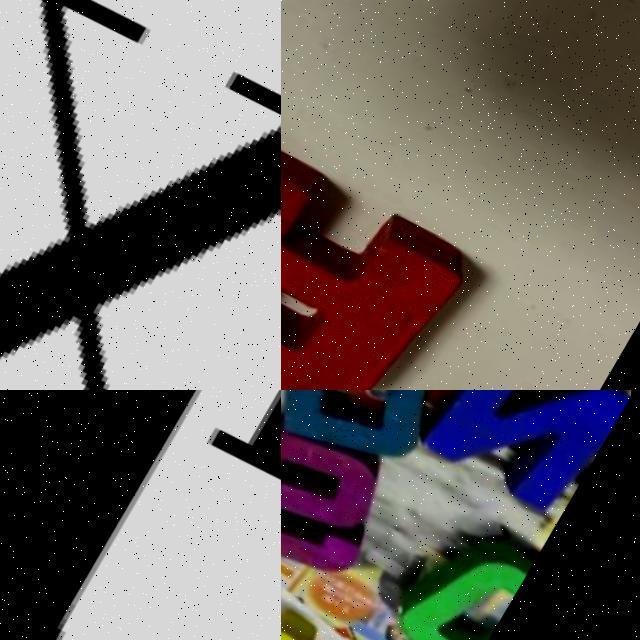A: (281, 118, 493, 390)
C: (422, 472, 576, 640)
D: (281, 390, 552, 454)
G: (0, 390, 281, 640)
N: (472, 390, 640, 474)
R: (281, 573, 457, 640)
S: (281, 390, 456, 574)
X: (0, 0, 281, 390)
